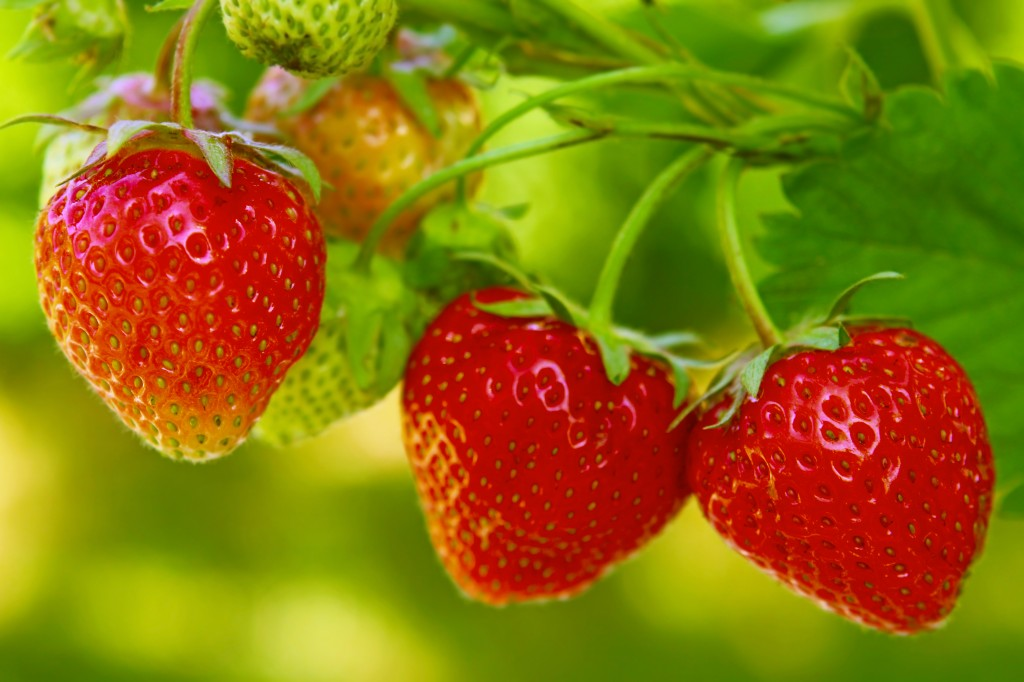ripe: (675, 303, 1005, 644), (402, 267, 709, 617), (30, 138, 329, 466)
unripe: (187, 43, 503, 227), (240, 233, 432, 457), (216, 0, 402, 86)
